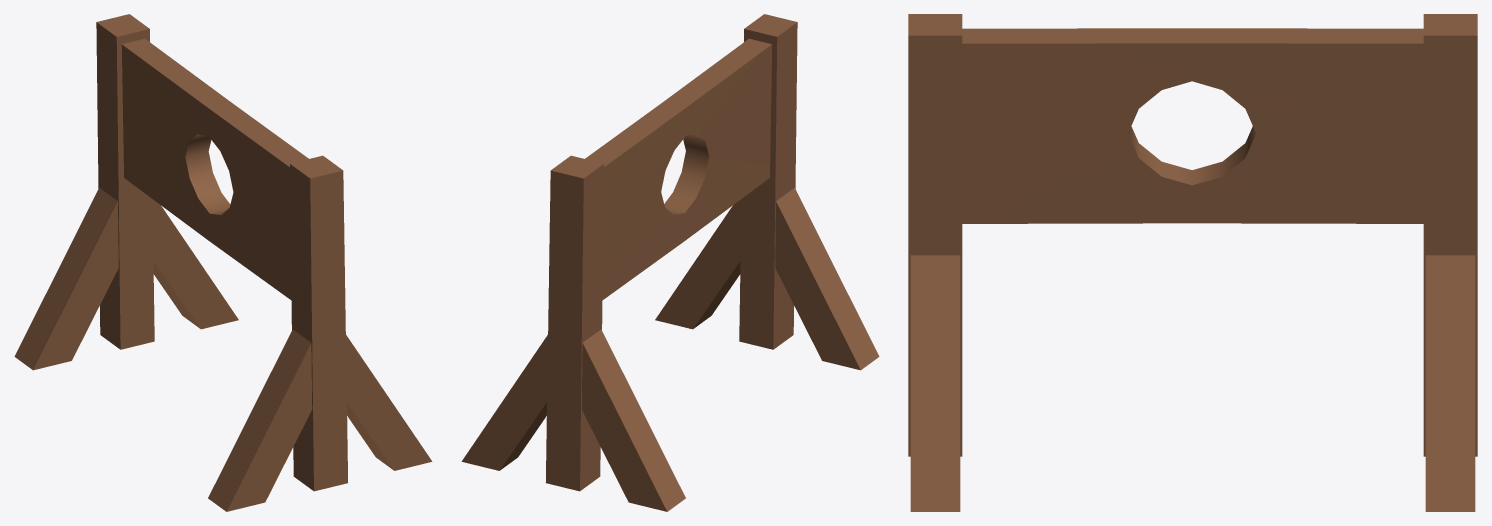
File: Stockade.fbx
The picture shows the model from 3 angles, left to right: view 1: azimuth 30°, elevation 25°; view 2: azimuth 150°, elevation 25°; view 3: azimuth 270°, elevation 25°; orthographic projection. The views are drawn at different scales.
Parts seen in each view (by area): view 1: Stockade; view 2: Stockade; view 3: Stockade.
Part boxes in pixels (x1,y1,x2,y2): Stockade: (14, 14, 432, 511); Stockade: (461, 14, 879, 511); Stockade: (908, 14, 1477, 511).
Bounding box in the file's own units: 91.29 × 133 × 164.
